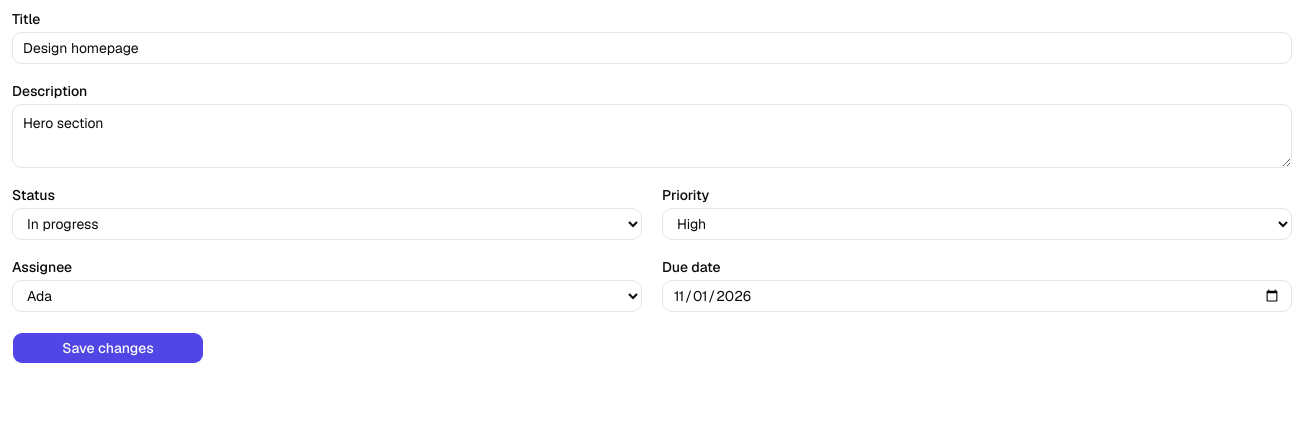
Test: TaskForm › submits the edited values with the task id, then shows 'saved' and refreshes
This screenshot has width=1304, height=436.
Select "Urgent" in the dropdown labelled "Priority" at (977, 224), box left=662, top=208, right=1292, bottom=240
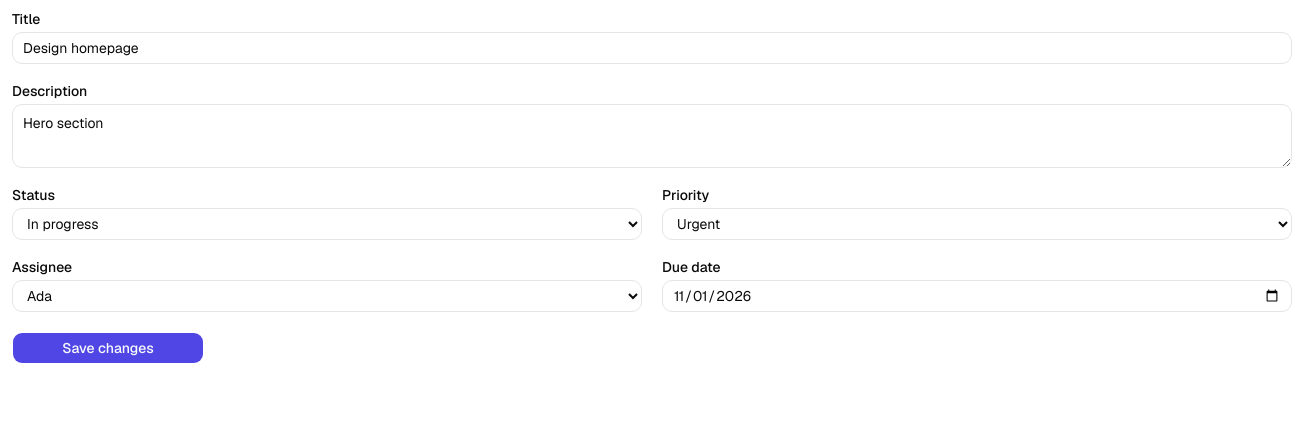
Select "Unassigned" in the dropdown labelled "Assignee" at (327, 296), box left=12, top=280, right=642, bottom=312
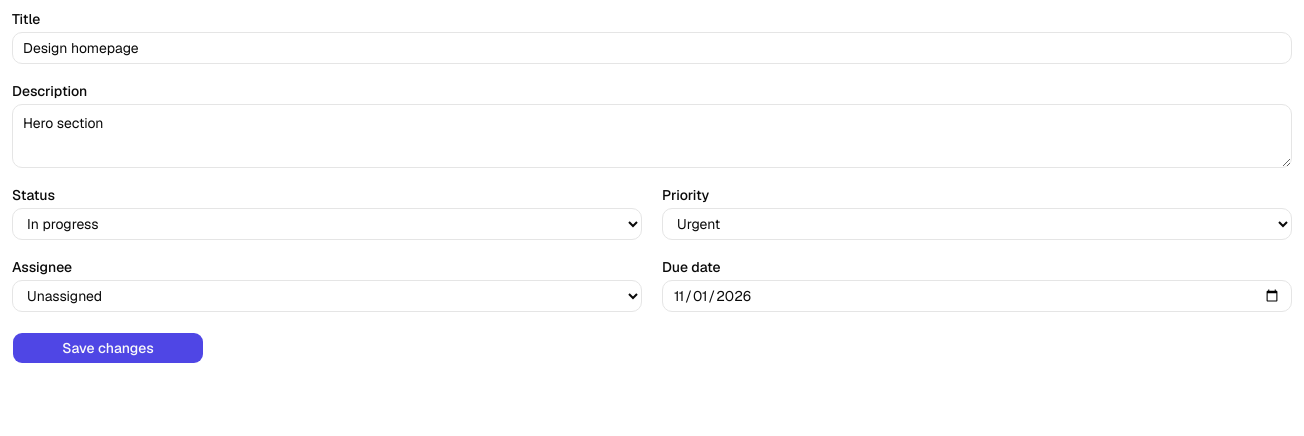
Clear the date field labelled "Due date" at (977, 296), box left=662, top=280, right=1292, bottom=312
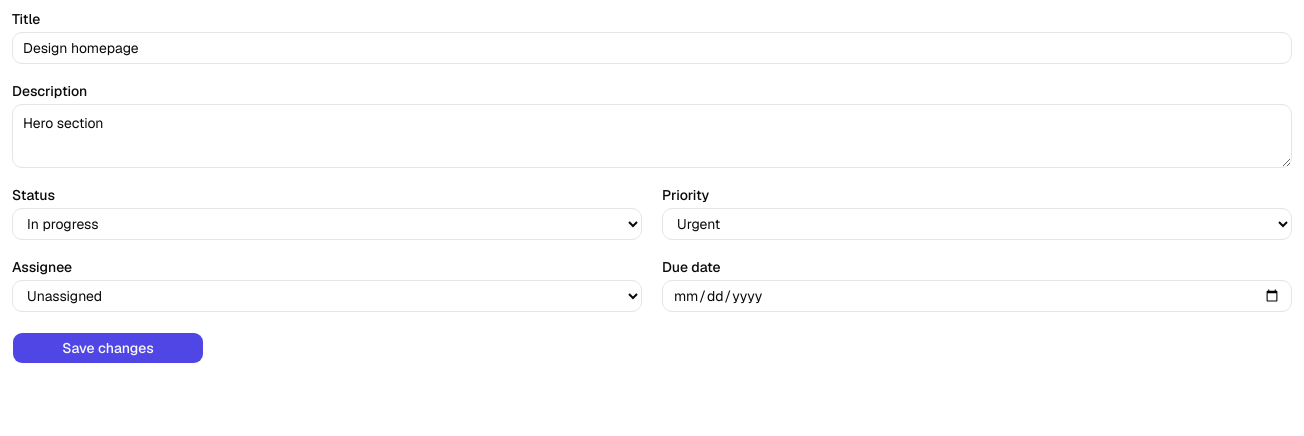
Click the button "Save changes".
click(108, 348)  # box left=12, top=332, right=204, bottom=364
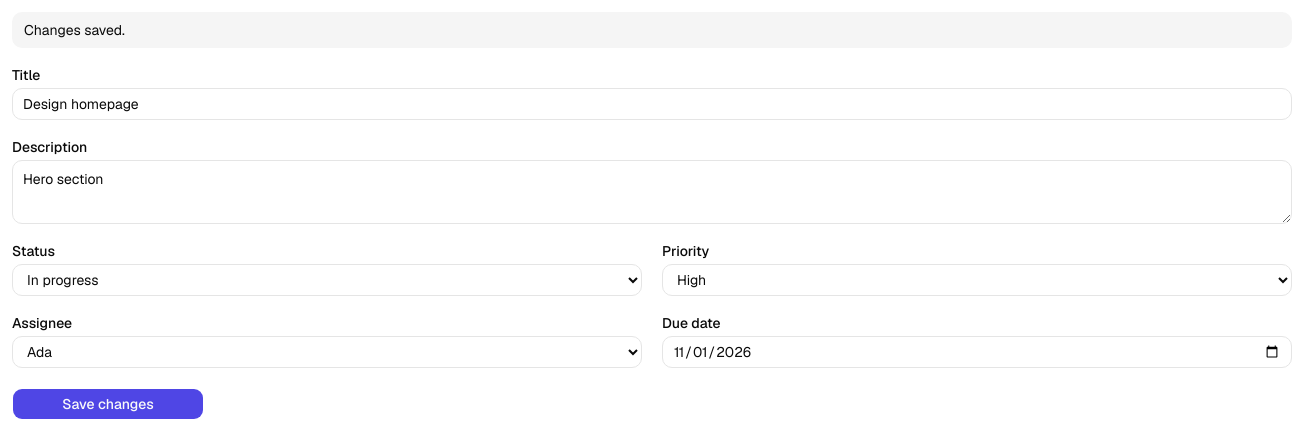
Now the message reads "Changes saved.", box left=24, top=21, right=125, bottom=39
